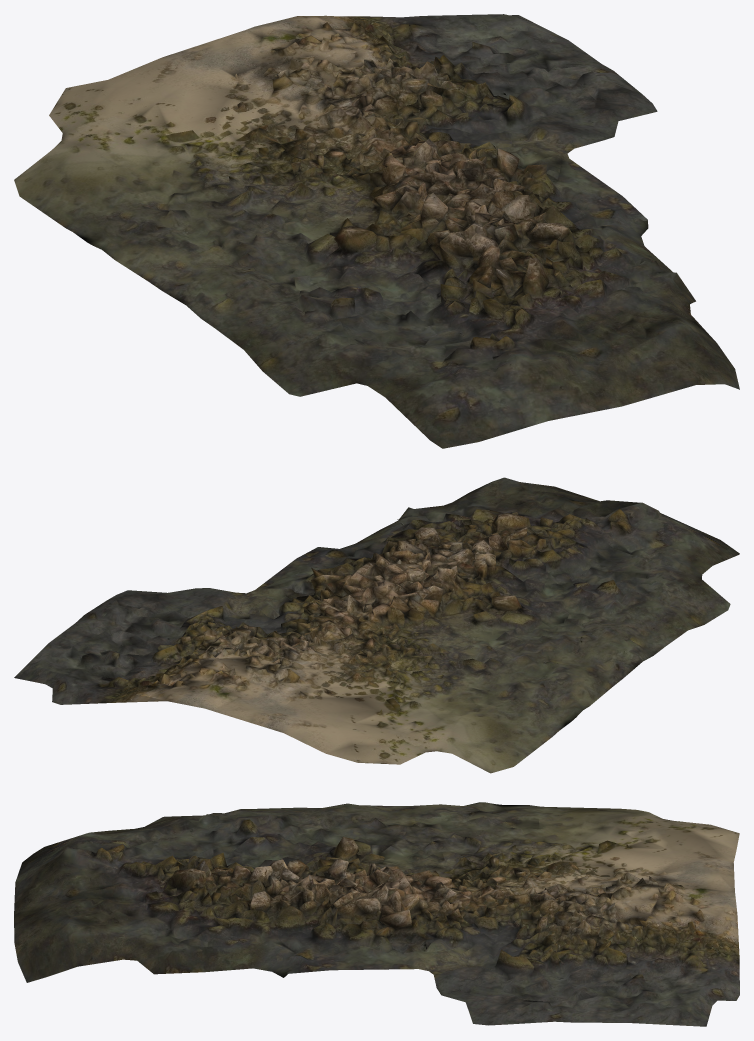
The model's file is coast_rocks_03.glb.
The picture shows the model from 3 angles, top to bottom: view 1: azimuth 30°, elevation 25°; view 2: azimuth 150°, elevation 25°; view 3: azimuth 270°, elevation 25°; orthographic projection. The views are drawn at different scales.
Size of the model in its own units: 21.12 by 3.15 by 28.25.
Materials: 1 (1 with a texture image).
